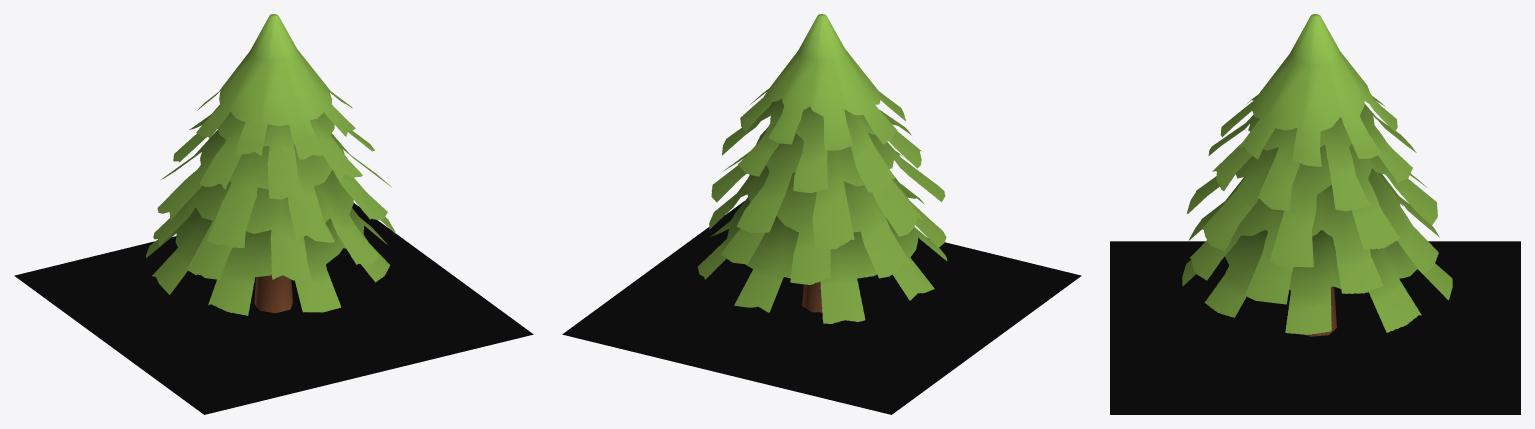
Rendered from tree.fbx.
3 views of the same model, side by side, from view 1: azimuth 30°, elevation 25°; view 2: azimuth 150°, elevation 25°; view 3: azimuth 270°, elevation 25° (orthographic). The views are drawn at different scales.
Parts seen in each view (by area): view 1: shadow, tree; view 2: shadow, tree; view 3: shadow, tree.
Boxes of the visible parts, x1,y1,x2,y2 form: shadow: (14, 203, 533, 414); tree: (146, 14, 395, 315); shadow: (562, 201, 1081, 414); tree: (697, 14, 947, 323); shadow: (1110, 241, 1520, 414); tree: (1182, 14, 1452, 336).
Size of the model in its own units: 300 by 252 by 300.
2 materials, 1 textured.
